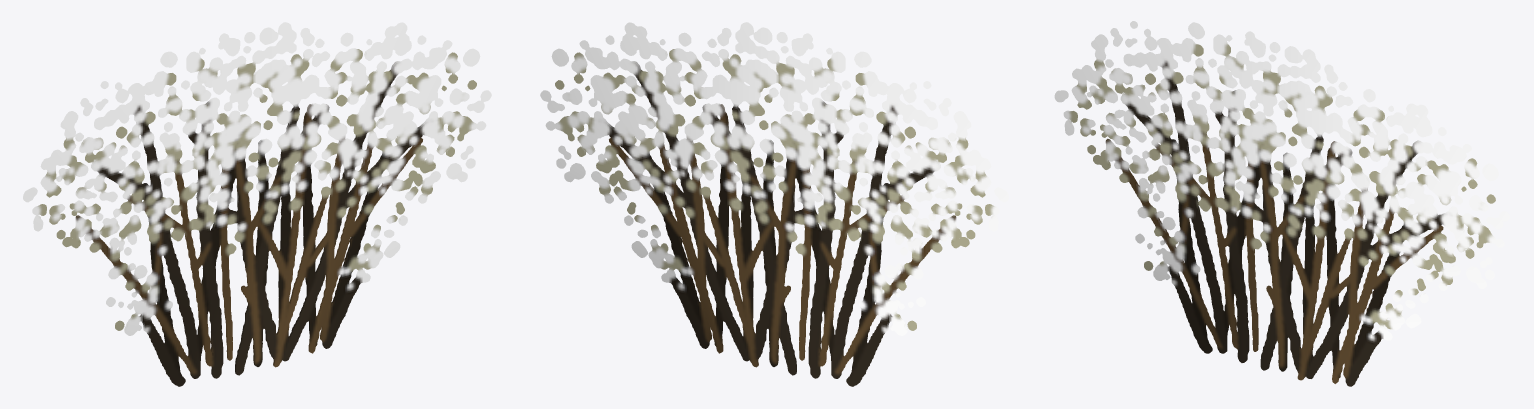
File: hp_bush021.glb
The picture shows the model from 3 angles, left to right: view 1: azimuth 30°, elevation 25°; view 2: azimuth 150°, elevation 25°; view 3: azimuth 330°, elevation 25°; orthographic projection. The views are drawn at different scales.
Visible parts, largest first — view 1: _MeshInstance3D_3; view 2: _MeshInstance3D_3; view 3: _MeshInstance3D_3.
Boxes of the visible parts, x1=… form: _MeshInstance3D_3: x1=23, y1=22, x2=491, y2=386; _MeshInstance3D_3: x1=540, y1=22, x2=1008, y2=386; _MeshInstance3D_3: x1=1054, y1=21, x2=1510, y2=386.
Bounding box in the file's own units: 10.11 × 7.19 × 0.04.
1 material, 1 textured.
